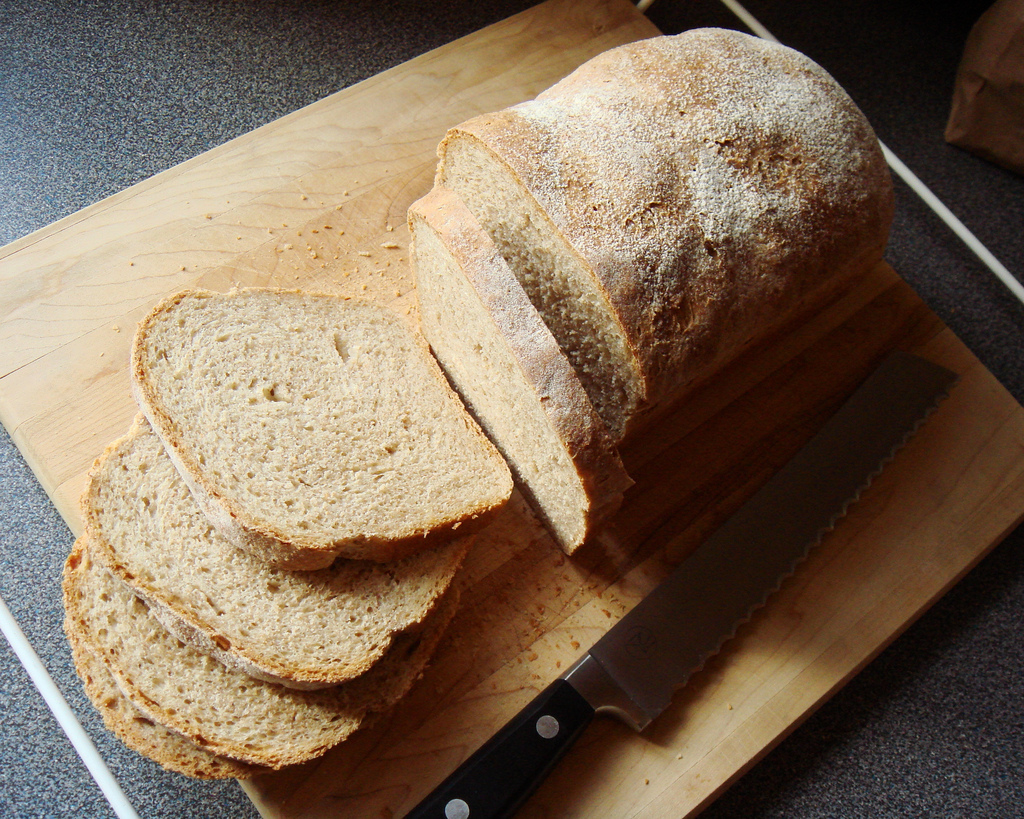slice of bread: (452, 81, 893, 396), (72, 430, 466, 762), (114, 269, 509, 566), (424, 141, 616, 599)
